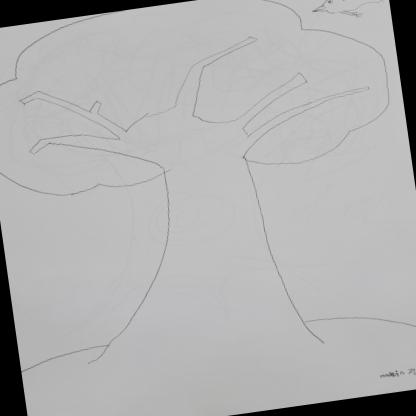bird: (307, 0, 386, 28)
branch_cut: (16, 15, 375, 165)
crown_cloud: (0, 0, 398, 207)
root_none: (64, 287, 353, 399)
trunk_reflex: (136, 169, 282, 286)
